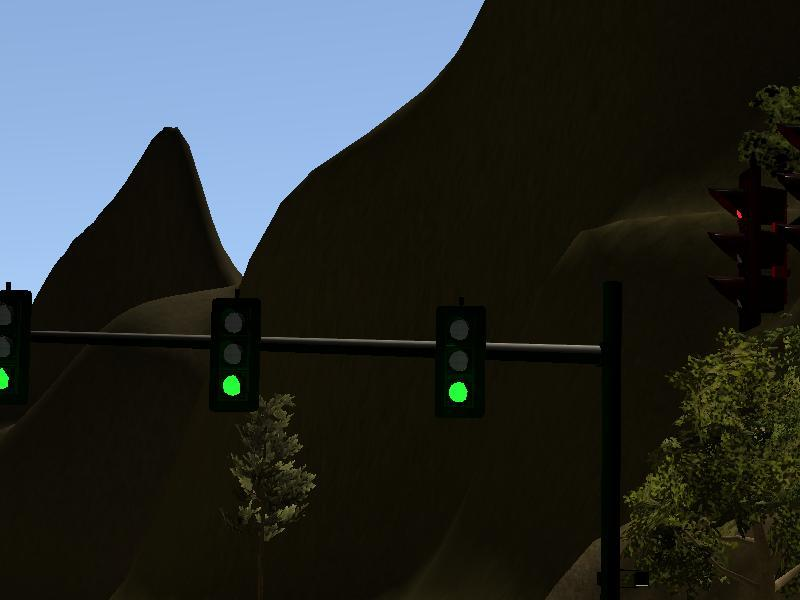Green: (435, 305, 484, 421), (210, 296, 258, 413), (1, 291, 28, 403)
